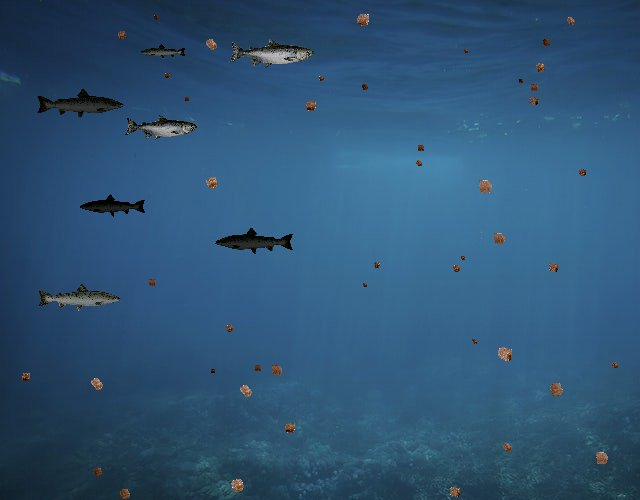Fish: (36, 87, 126, 120), (36, 282, 122, 313), (228, 38, 314, 69), (215, 226, 296, 255), (124, 115, 197, 141), (80, 194, 148, 218), (141, 43, 188, 60)
Pellet: (471, 172, 499, 200), (487, 227, 511, 251), (199, 32, 223, 56), (497, 437, 517, 457), (530, 57, 550, 77), (315, 72, 328, 85), (458, 252, 468, 262)
